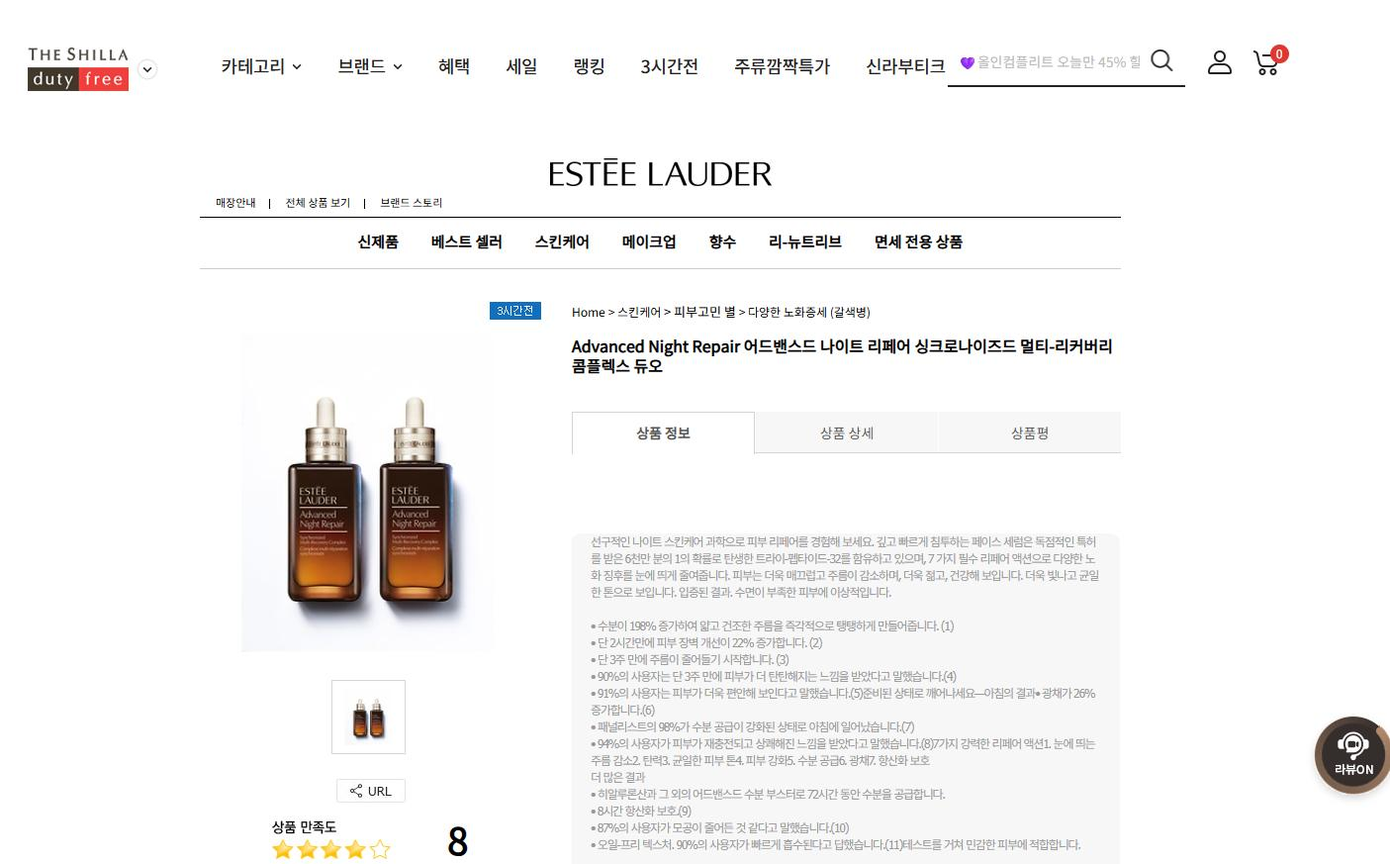button: (566, 409, 752, 456), (942, 410, 1118, 458), (757, 410, 936, 456), (727, 40, 841, 94), (858, 39, 947, 91), (630, 42, 711, 93), (867, 229, 968, 258), (1245, 41, 1297, 92), (427, 43, 483, 90), (563, 43, 615, 92), (495, 42, 549, 88), (332, 775, 408, 807), (425, 226, 506, 256), (761, 228, 849, 255), (1204, 41, 1238, 96), (619, 228, 683, 256), (529, 229, 595, 256), (348, 227, 404, 258), (373, 190, 447, 212), (278, 191, 355, 212), (703, 226, 748, 259), (208, 190, 260, 213)
checkbox: (18, 36, 163, 102), (212, 41, 311, 93), (327, 44, 415, 91)
input_field: (954, 39, 1190, 96)
